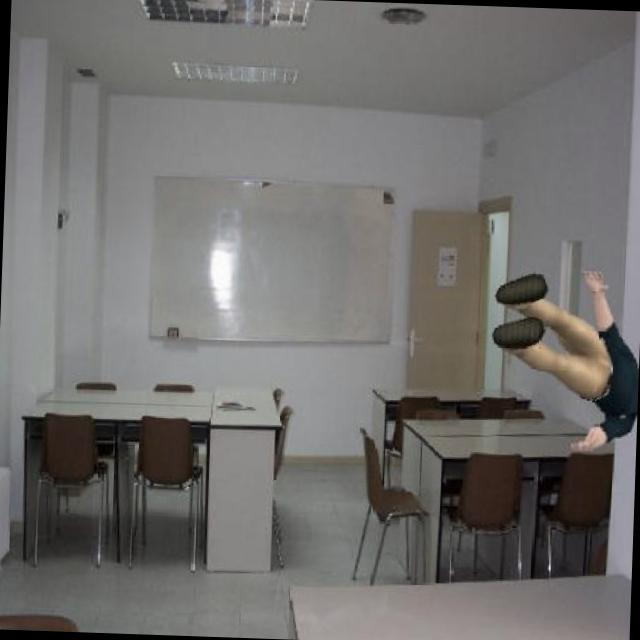Person: (487, 265, 640, 458)
